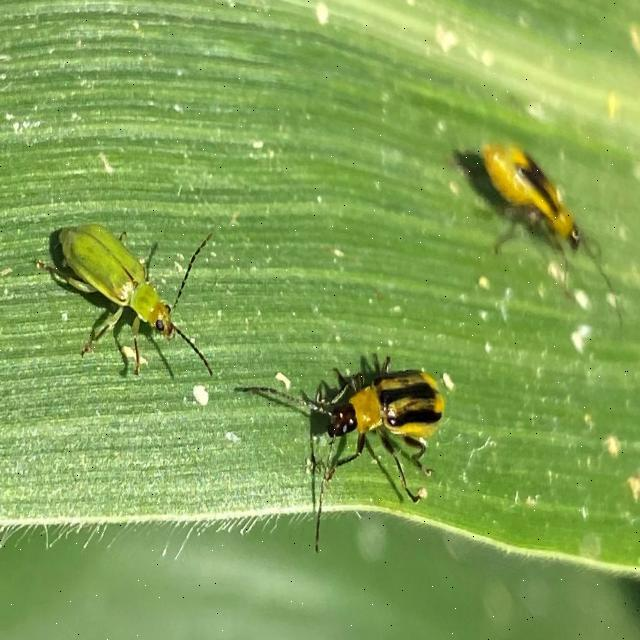gusano_gris: (35, 222, 213, 380)
trips: (234, 353, 446, 551), (482, 140, 626, 324)
